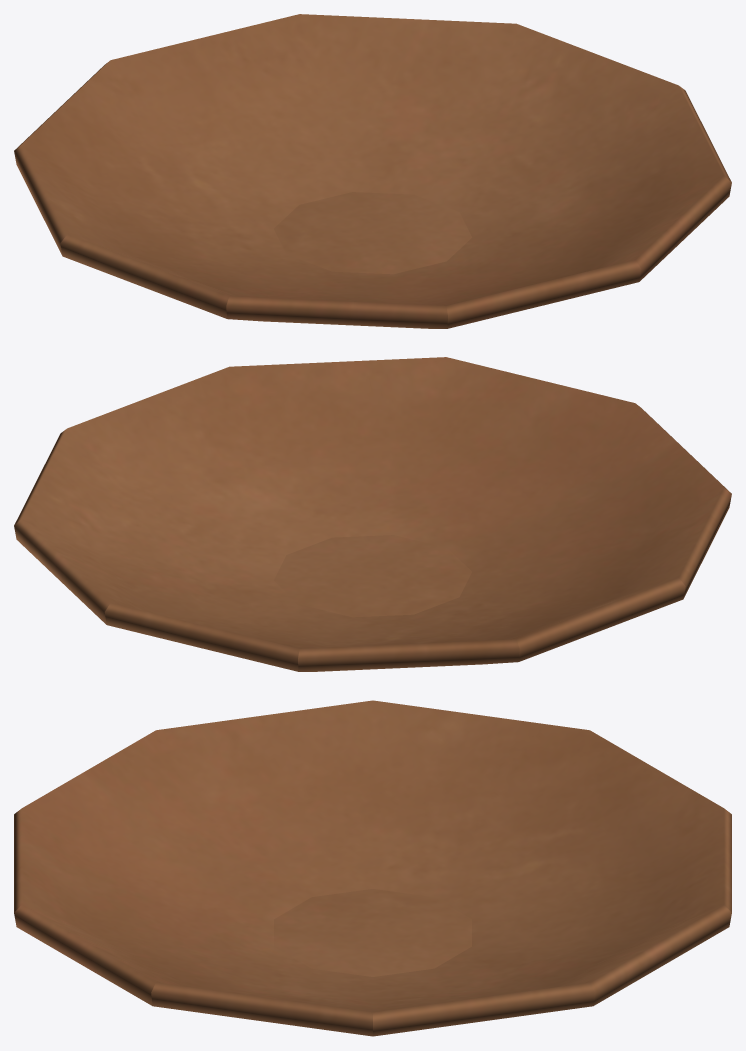
Rendered from SmallPlate.fbx.
3 views of the same model, one above another, from view 1: azimuth 30°, elevation 25°; view 2: azimuth 150°, elevation 25°; view 3: azimuth 270°, elevation 25° (orthographic). The views are drawn at different scales.
Parts seen in each view (by area): view 1: Smallplate; view 2: Smallplate; view 3: Smallplate.
Part boxes in pixels (<box>): Smallplate: <box>14,14,731,328</box>; Smallplate: <box>14,357,731,671</box>; Smallplate: <box>14,700,731,1036</box>.
Bounding box in the file's own units: 7.43 × 0.9965 × 7.07.
